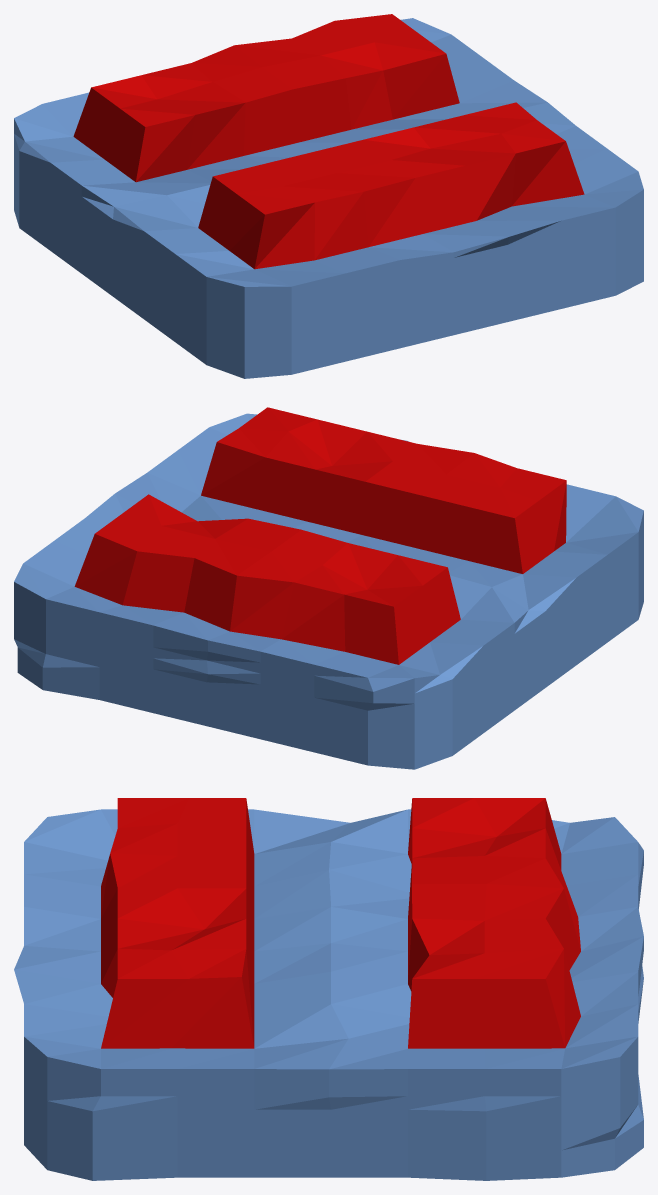
File: pause_button.fbx
3 renders of one model, top to bottom at view 1: azimuth 30°, elevation 25°; view 2: azimuth 150°, elevation 25°; view 3: azimuth 270°, elevation 25°, orthographic. The views are drawn at different scales.
Visible parts, largest first — view 1: Cube_002; view 2: Cube_002; view 3: Cube_002.
Part boxes in pixels (x1,y1,x2,y2): Cube_002: (14, 14, 643, 378); Cube_002: (14, 407, 643, 769); Cube_002: (14, 798, 643, 1180).
Size of the model in its own units: 10.05 by 2.95 by 10.26.
